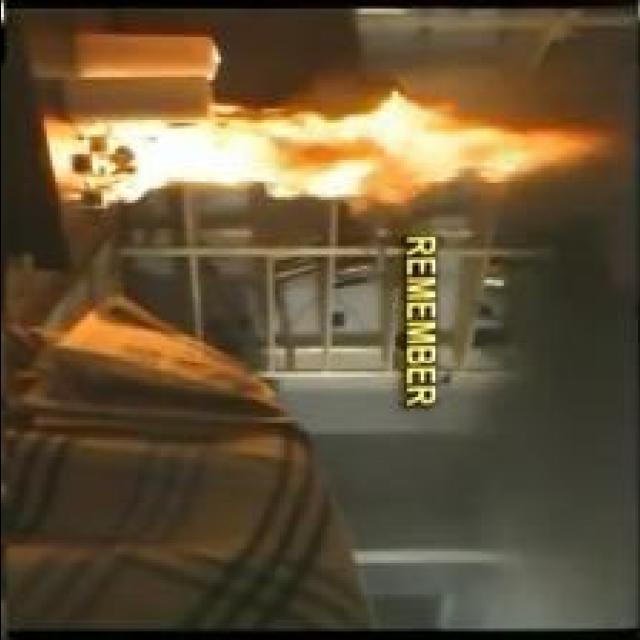Fire: (72, 91, 626, 206)
